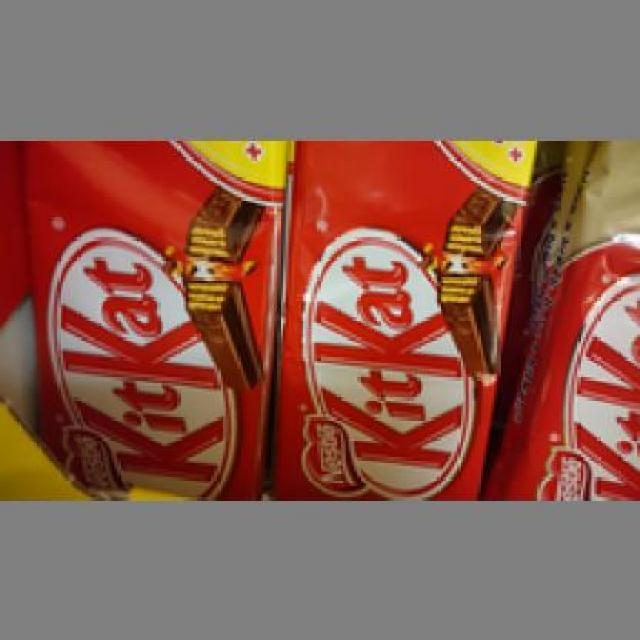Chocolate: (17, 134, 280, 492), (280, 137, 520, 497), (502, 137, 638, 497)
